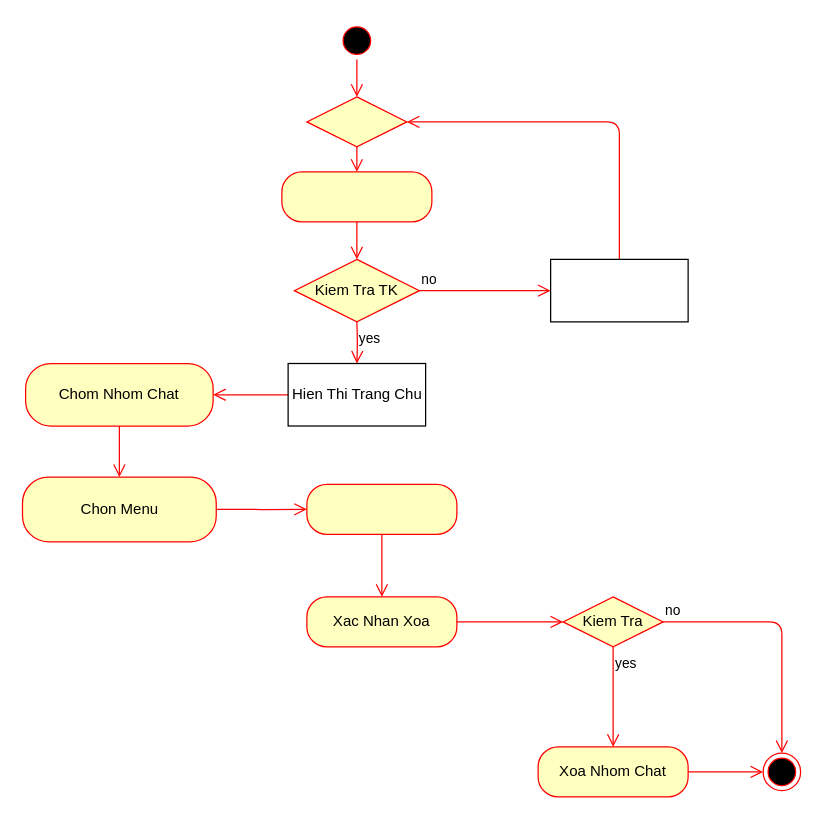
Image size: 823x819. Some labels were removed from this diagram. Each missing label, with the centre of its shape:
Chon Xoa Nhom Chat: point 381,508
Dang Nhap: point 356,196
Thong Bao Sai: point 618,290
